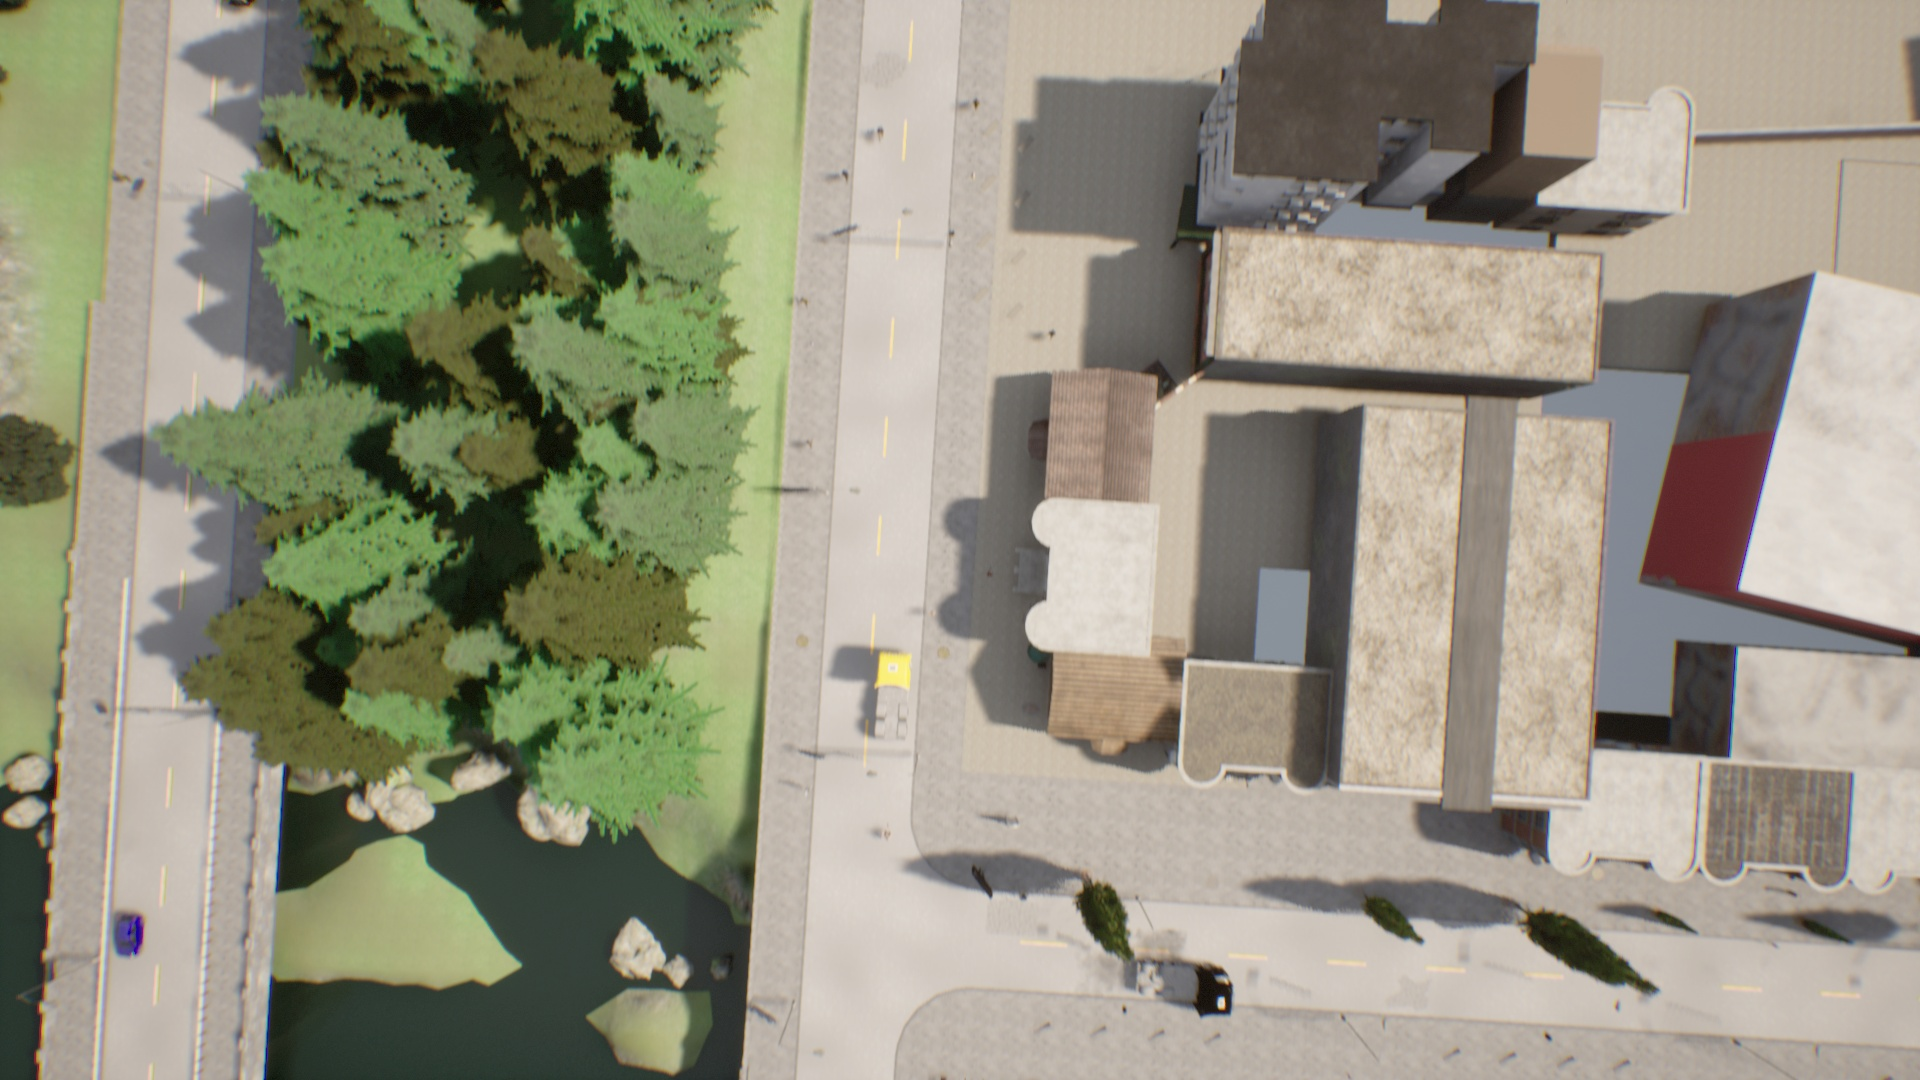Bicycle: (870, 123, 887, 145)
Car: (116, 910, 144, 955)
Truck: (1127, 956, 1241, 1018), (876, 644, 914, 752)
